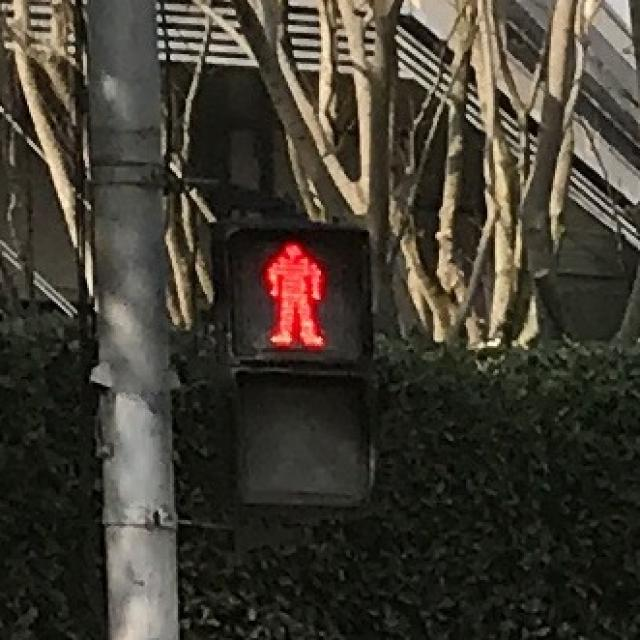red_light: (234, 232, 346, 354)
